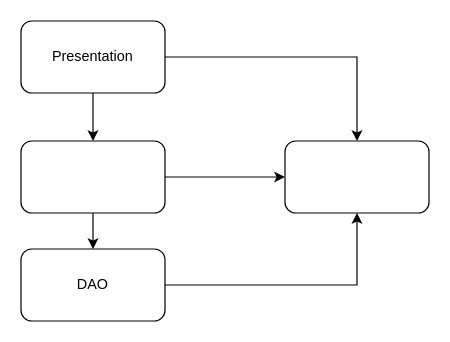
Some shapes in this 450 by 342 pixel diagram are drawn without their labels. The shapes that lost their labels are listed below. From the top down, each one's box as (x1, y1, x2, y2) in pixels, then its label:
(20, 140, 165, 213): Business
(284, 140, 429, 213): Entities
